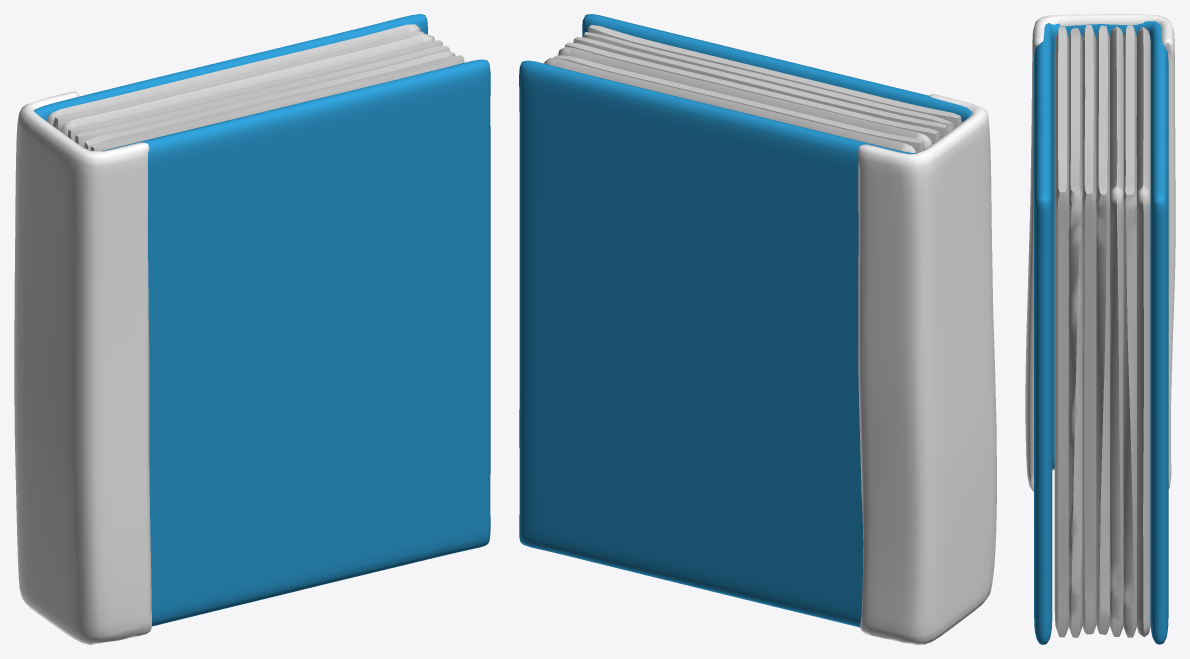
File: close book FBX.glb
The picture shows the model from 3 angles, left to right: view 1: azimuth 30°, elevation 25°; view 2: azimuth 150°, elevation 25°; view 3: azimuth 270°, elevation 25°; orthographic projection. The views are drawn at different scales.
Parts seen in each view (by area): view 1: book_closed, Bc2, Bc3; view 2: book_closed, Bc2, Bc3; view 3: Bc3, book_closed, Bc2.
Boxes of the visible parts, left/top/right/bottom form: book_closed: left=34, top=14, right=490, bottom=626; Bc2: left=14, top=91, right=151, bottom=644; Bc3: left=46, top=24, right=464, bottom=150; book_closed: left=519, top=14, right=972, bottom=627; Bc2: left=858, top=94, right=996, bottom=644; Bc3: left=544, top=25, right=961, bottom=152; Bc3: left=1054, top=25, right=1150, bottom=637; book_closed: left=1034, top=21, right=1168, bottom=644; Bc2: left=1025, top=14, right=1175, bottom=491.
Size of the model in its own units: 0.3479 by 0.3958 by 0.1184.
